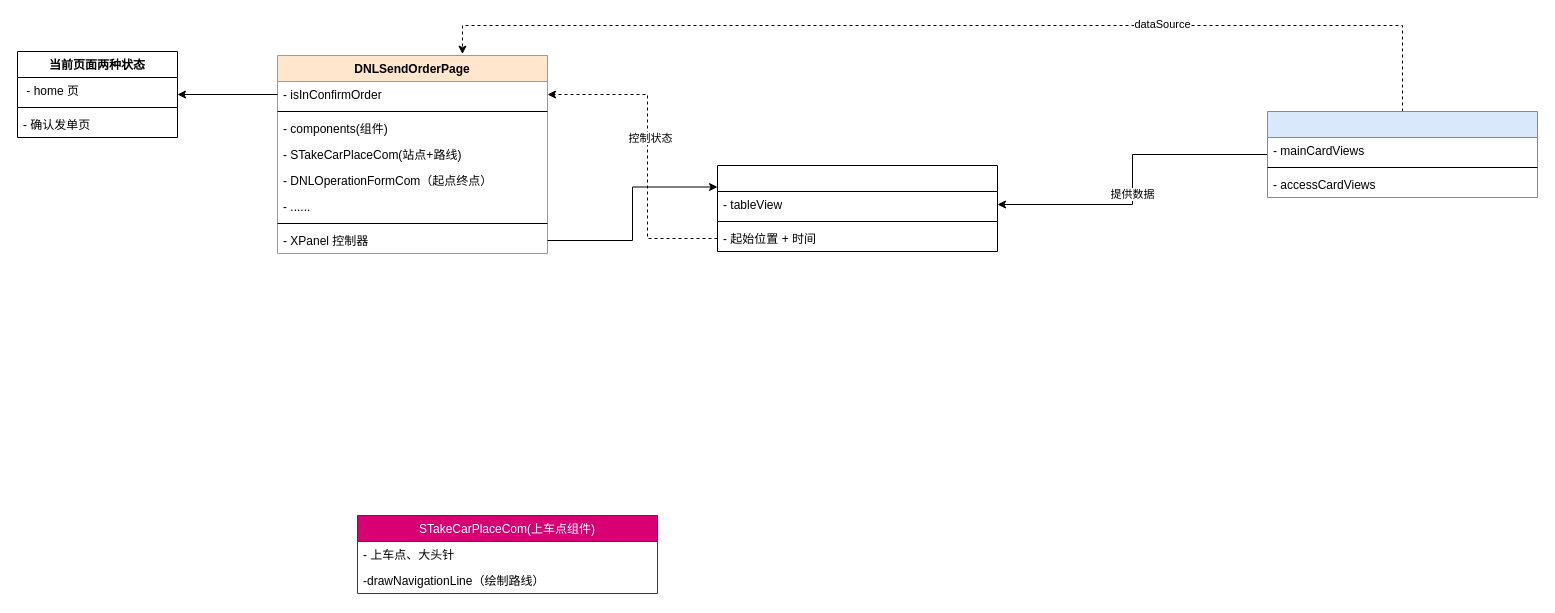
This 1555x613 diagram has some shape labels left out. The shapes that lost their labels are listed below. From the top down, each one's box as (x1, y1, x2, y2) in pixels, then its label:
(1266, 110, 1538, 198): XPCardPoolManager(单例)
(716, 164, 998, 252): XPDomesticPanelViewController
